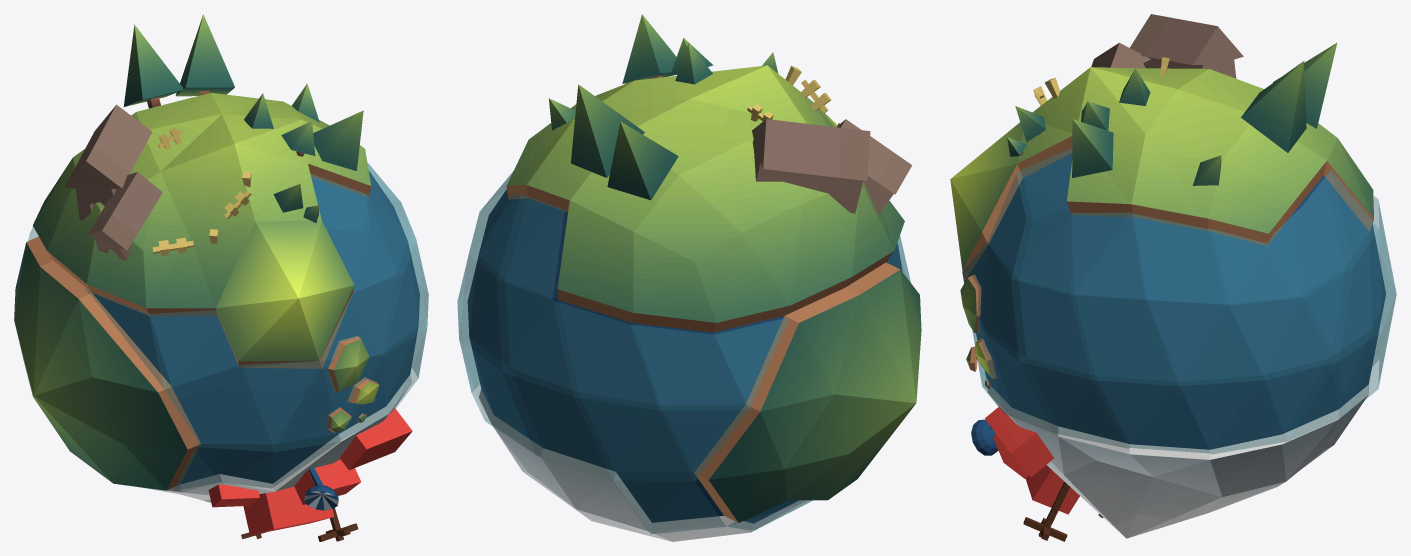
3 renders of one model, left to right at view 1: azimuth 30°, elevation 25°; view 2: azimuth 150°, elevation 25°; view 3: azimuth 270°, elevation 25°, orthographic. The views are drawn at different scales.
Parts seen in each view (by area): view 1: PL001_Tex002, PL001_Tex004, PL001_Water, PL001_Tex003, PL001_Tex001; view 2: PL001_Tex002, PL001_Tex004, PL001_Water, PL001_Tex003, PL001_Tex001; view 3: PL001_Tex004, PL001_Water, PL001_Tex002, PL001_Tex003.
Part boxes in pixels (x1=…): PL001_Tex002: x1=14, y1=14, x2=379, y2=490; PL001_Tex004: x1=64, y1=104, x2=419, y2=541; PL001_Water: x1=28, y1=162, x2=428, y2=490; PL001_Tex003: x1=140, y1=375, x2=411, y2=502; PL001_Tex001: x1=152, y1=128, x2=251, y2=255; PL001_Tex002: x1=506, y1=14, x2=921, y2=522; PL001_Tex004: x1=467, y1=119, x2=912, y2=523; PL001_Water: x1=457, y1=171, x2=910, y2=533; PL001_Tex003: x1=479, y1=389, x2=805, y2=541; PL001_Tex001: x1=747, y1=66, x2=840, y2=126; PL001_Tex004: x1=964, y1=14, x2=1385, y2=541; PL001_Water: x1=962, y1=148, x2=1396, y2=453; PL001_Tex002: x1=950, y1=43, x2=1373, y2=388; PL001_Tex003: x1=987, y1=384, x2=1368, y2=538.
Size of the model in its own units: 13.01 by 15 by 12.62.
